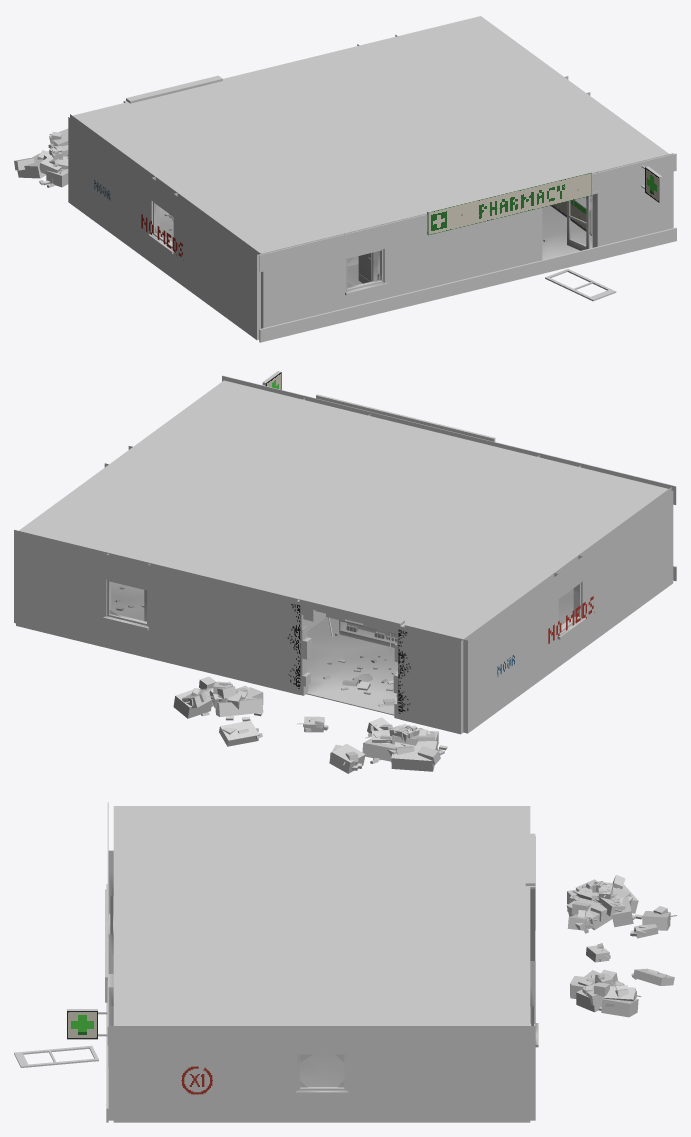
Rendered from pharmacy.glb.
3 views of the same model, one above another, from view 1: azimuth 30°, elevation 25°; view 2: azimuth 150°, elevation 25°; view 3: azimuth 270°, elevation 25° (orthographic). The views are drawn at different scales.
Parts seen in each view (by area): view 1: pharmacy; view 2: pharmacy; view 3: pharmacy.
Boxes of the visible parts, x1,y1,x2,y2 form: pharmacy: (14, 16, 676, 342); pharmacy: (14, 371, 676, 773); pharmacy: (14, 802, 676, 1122).
Bounding box in the file's own units: 15.84 × 3.26 × 19.09.
Materials: 4 (3 with a texture image).
